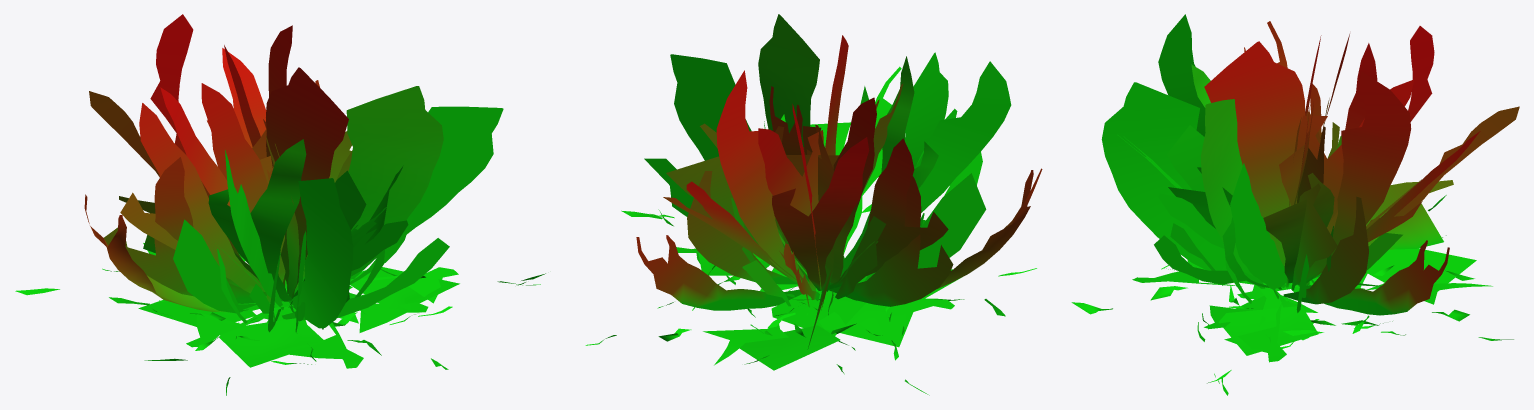
File: Dead Shrubs_LOD0_Var13_vdknafgha.fbx
The picture shows the model from 3 angles, left to right: view 1: azimuth 30°, elevation 25°; view 2: azimuth 150°, elevation 25°; view 3: azimuth 270°, elevation 25°; orthographic projection. The views are drawn at different scales.
Parts seen in each view (by area): view 1: _l6i3_Var13_LOD0; view 2: _l6i3_Var13_LOD0; view 3: _l6i3_Var13_LOD0.
Boxes of the visible parts, x1,y1,x2,y2 form: _l6i3_Var13_LOD0: [15, 14, 545, 395]; _l6i3_Var13_LOD0: [585, 14, 1042, 395]; _l6i3_Var13_LOD0: [1071, 14, 1519, 395].
Bounding box in the file's own units: 82.47 × 45.11 × 73.78.
